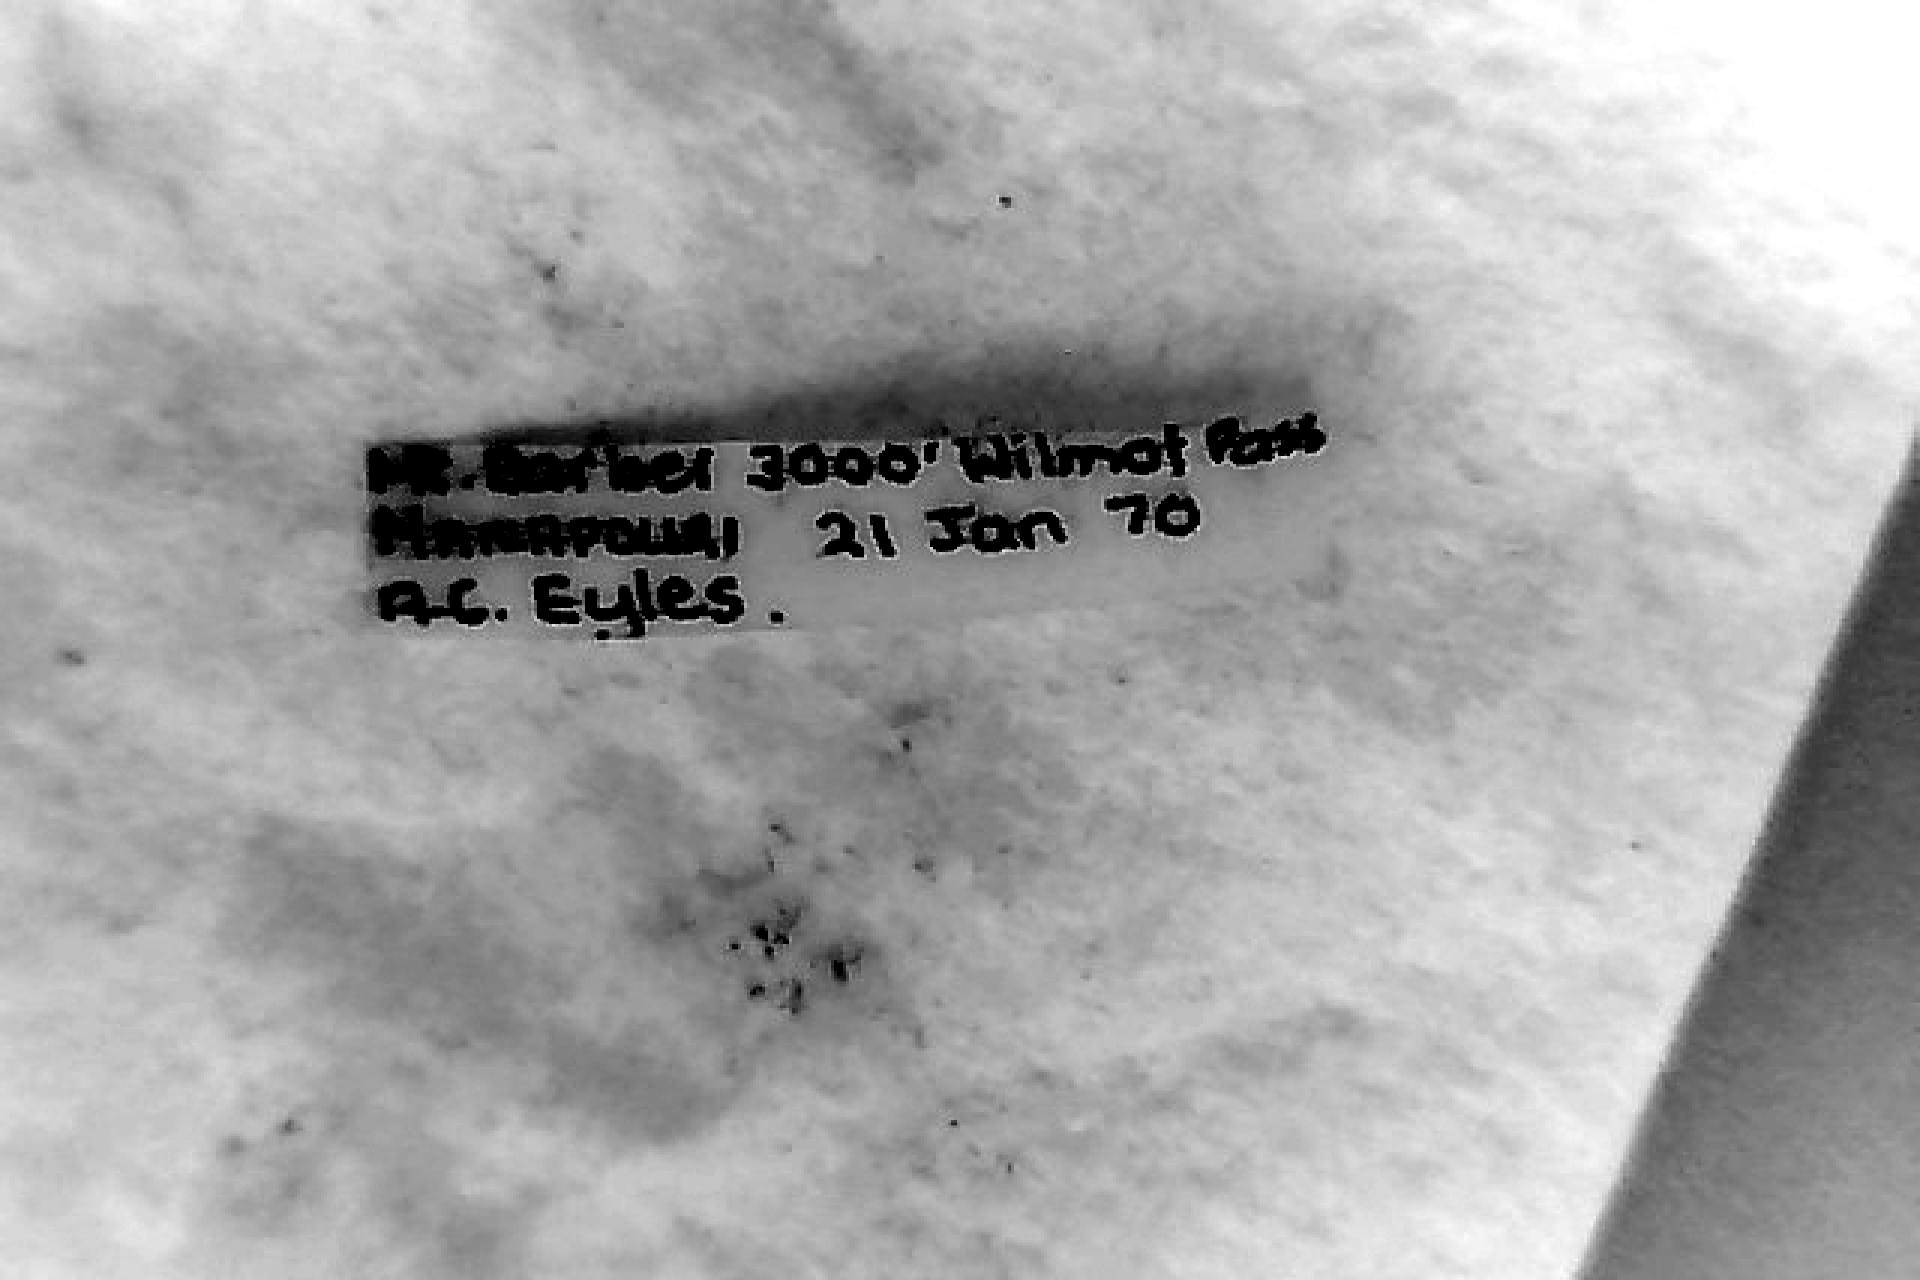hand_label: (368, 400, 1328, 638)
